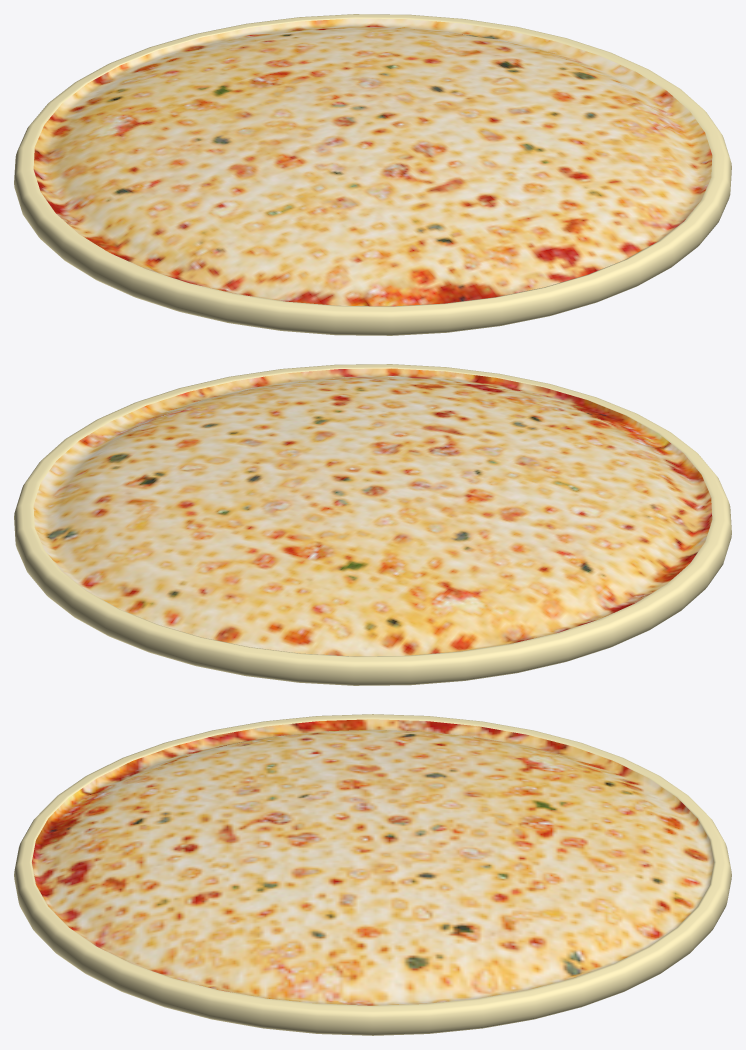
File: pizzaCheese.gltf
3 views of the same model, one above another, from view 1: azimuth 30°, elevation 25°; view 2: azimuth 150°, elevation 25°; view 3: azimuth 270°, elevation 25° (orthographic).
Size of the model in its own units: 0.6849 by 0.0628 by 0.6849.
Materials: 3 (1 with a texture image).
